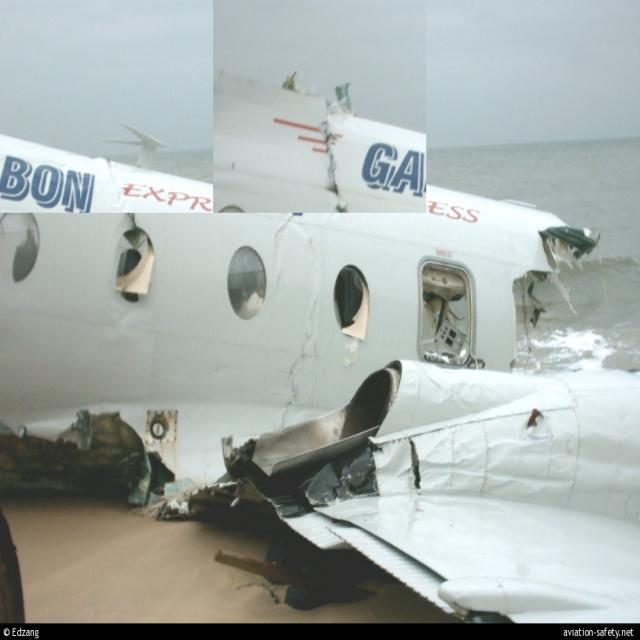crack: (277, 302, 318, 428), (315, 115, 351, 215), (407, 437, 427, 494), (128, 214, 142, 230)
